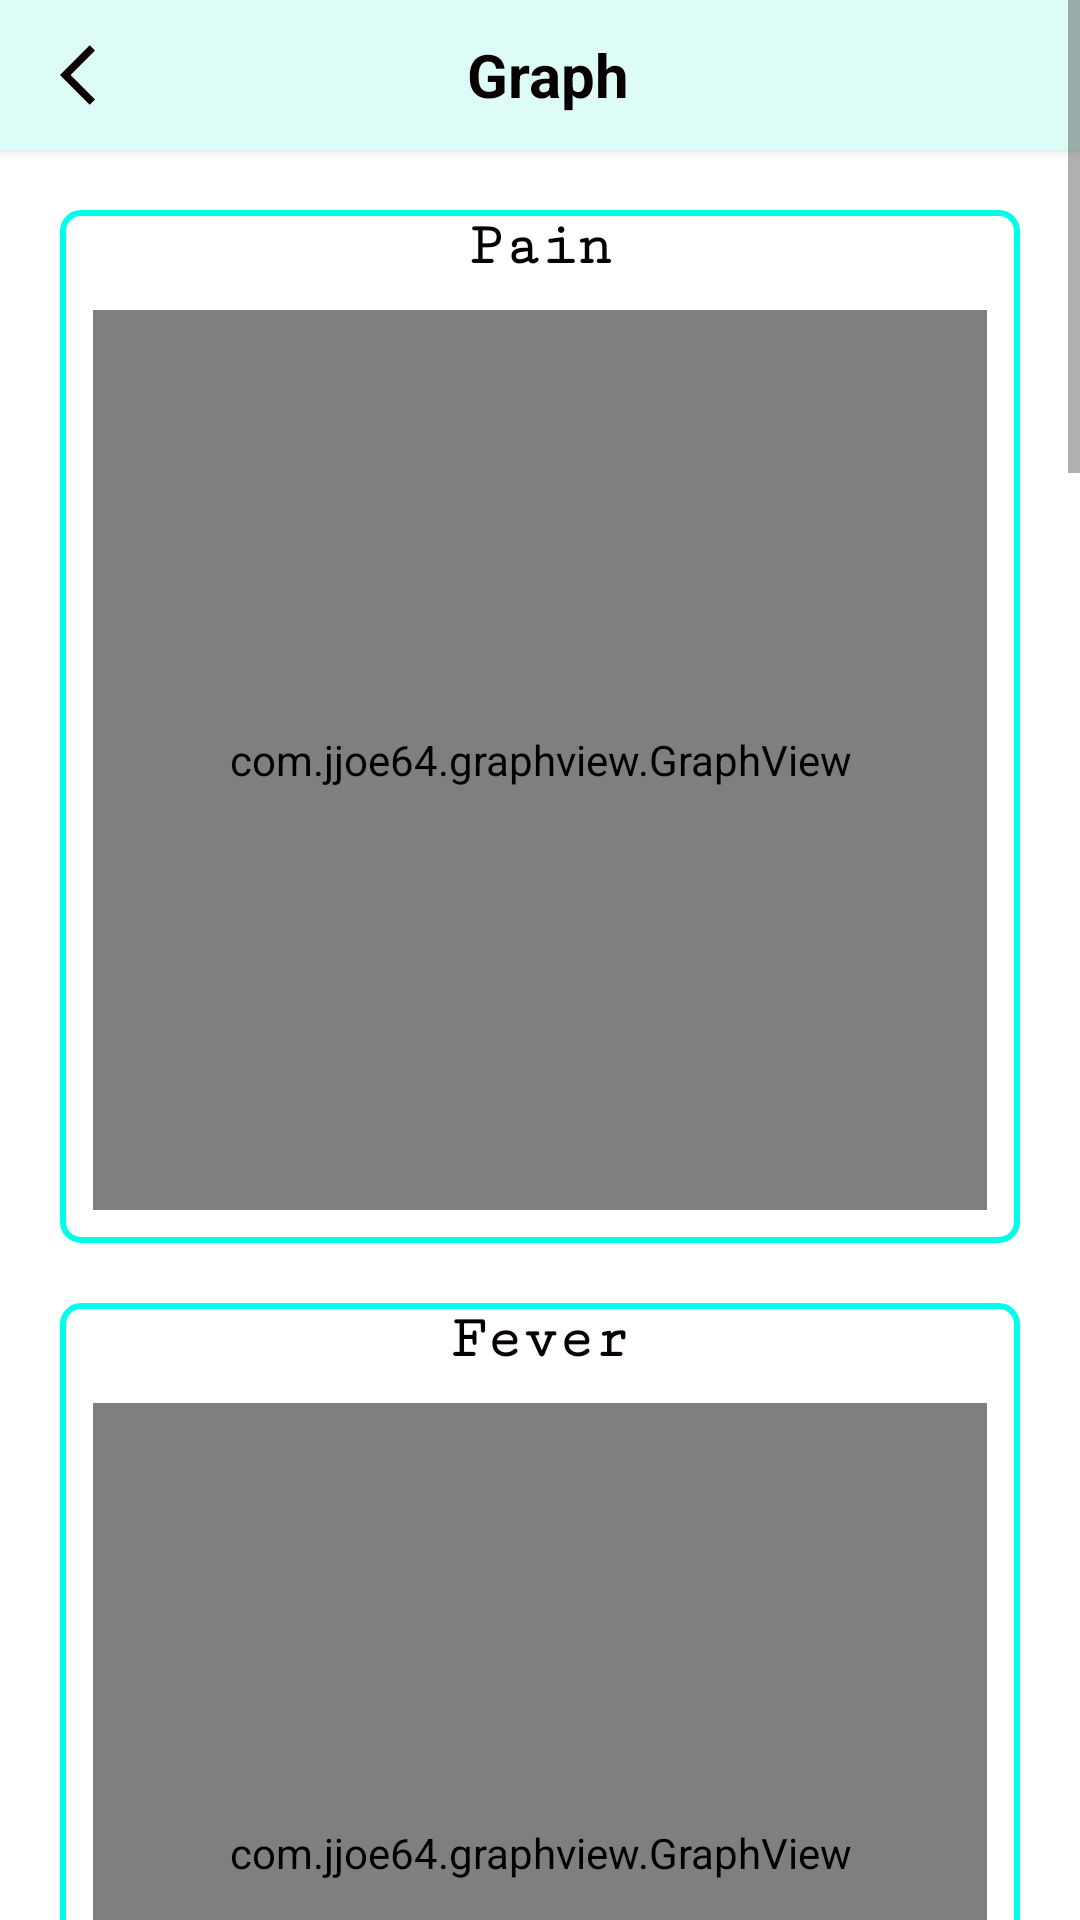

Named icons in this screenshot (1080x1920) and their bounding boxes, {"left": x1, "top": y1, "right": x2, "bottom": y2}:
back: {"left": 60, "top": 45, "right": 95, "bottom": 105}
